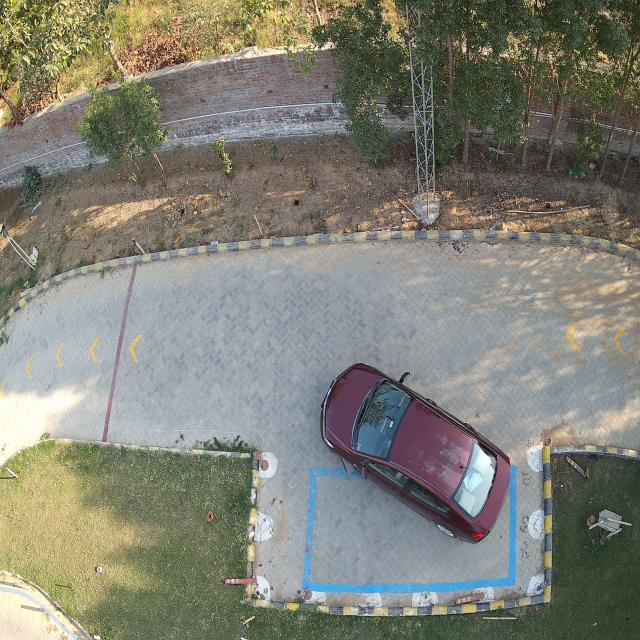car: (321, 363, 510, 542)
